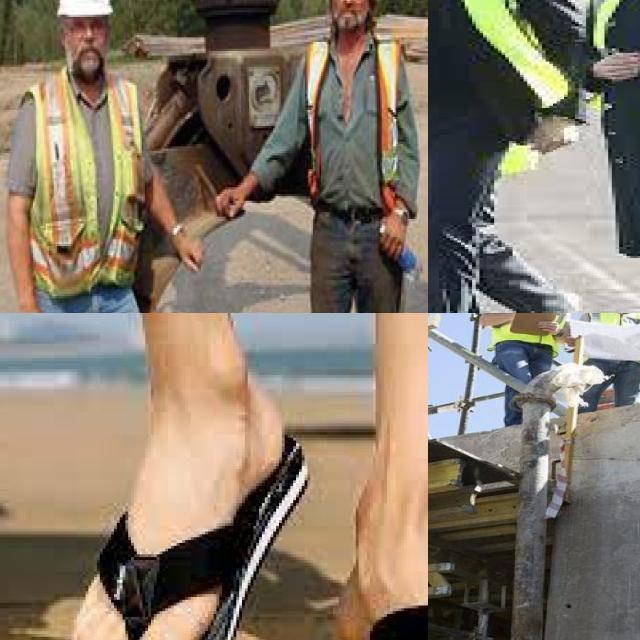Sandals: (51, 416, 267, 640)
face_nomask: (65, 17, 110, 87)
hand_noglove: (369, 199, 415, 262), (531, 110, 586, 154), (209, 180, 249, 232), (593, 46, 640, 83), (177, 226, 207, 282)
head_helmet: (53, 0, 114, 17)
person: (428, 0, 556, 313), (28, 0, 153, 313), (298, 0, 410, 313), (586, 0, 640, 313), (477, 313, 580, 422), (577, 313, 640, 408)
vest: (28, 65, 152, 280), (306, 31, 416, 206), (428, 0, 567, 103), (584, 313, 640, 367), (501, 313, 563, 347)
